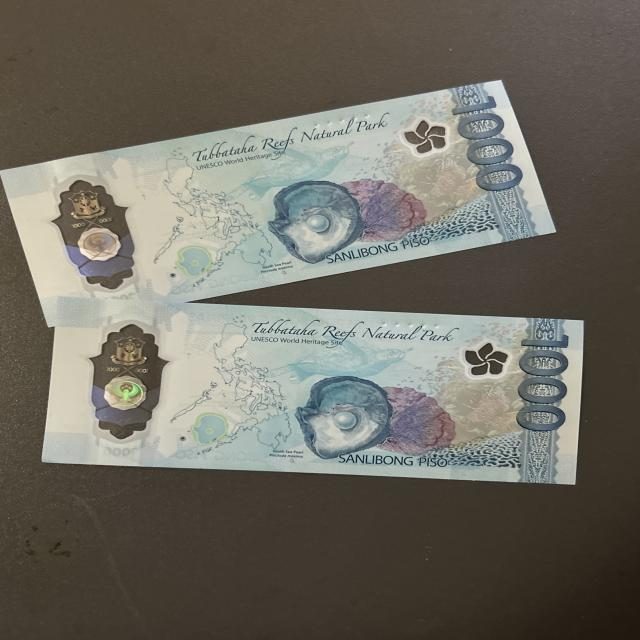clear_window: (38, 170, 138, 295), (87, 314, 159, 454)
sampaguita: (450, 340, 512, 381), (394, 118, 453, 160)
value: (450, 90, 524, 198), (519, 330, 571, 440)
